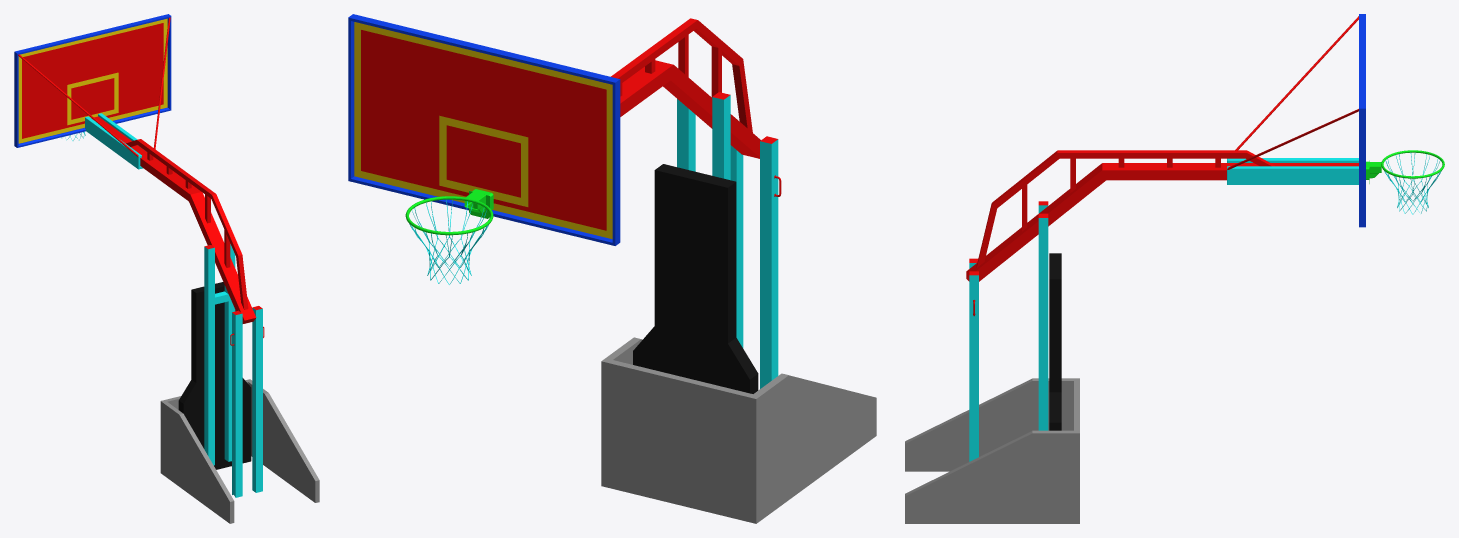
Rendered from BasketballCourt.FBX.
3 renders of one model, left to right at view 1: azimuth 30°, elevation 25°; view 2: azimuth 150°, elevation 25°; view 3: azimuth 270°, elevation 25°, orthographic. The views are drawn at different scales.
Visible parts, largest first — view 1: Canasta, Cristal; view 2: Canasta, Cristal, Cuerdas, Aro; view 3: Canasta, Cuerdas, Aro.
Part boxes in pixels (x1,y1,x2,y2): Canasta: (14,14,319,523); Cristal: (18,18,167,143); Canasta: (348,14,876,523); Cristal: (354,22,612,239); Cuerdas: (409,199,488,284); Aro: (405,189,493,235); Canasta: (905,14,1365,523); Cuerdas: (1384,153,1441,214); Aro: (1366,150,1444,183).
Size of the model in its own units: 1825 by 3915 by 4398.
